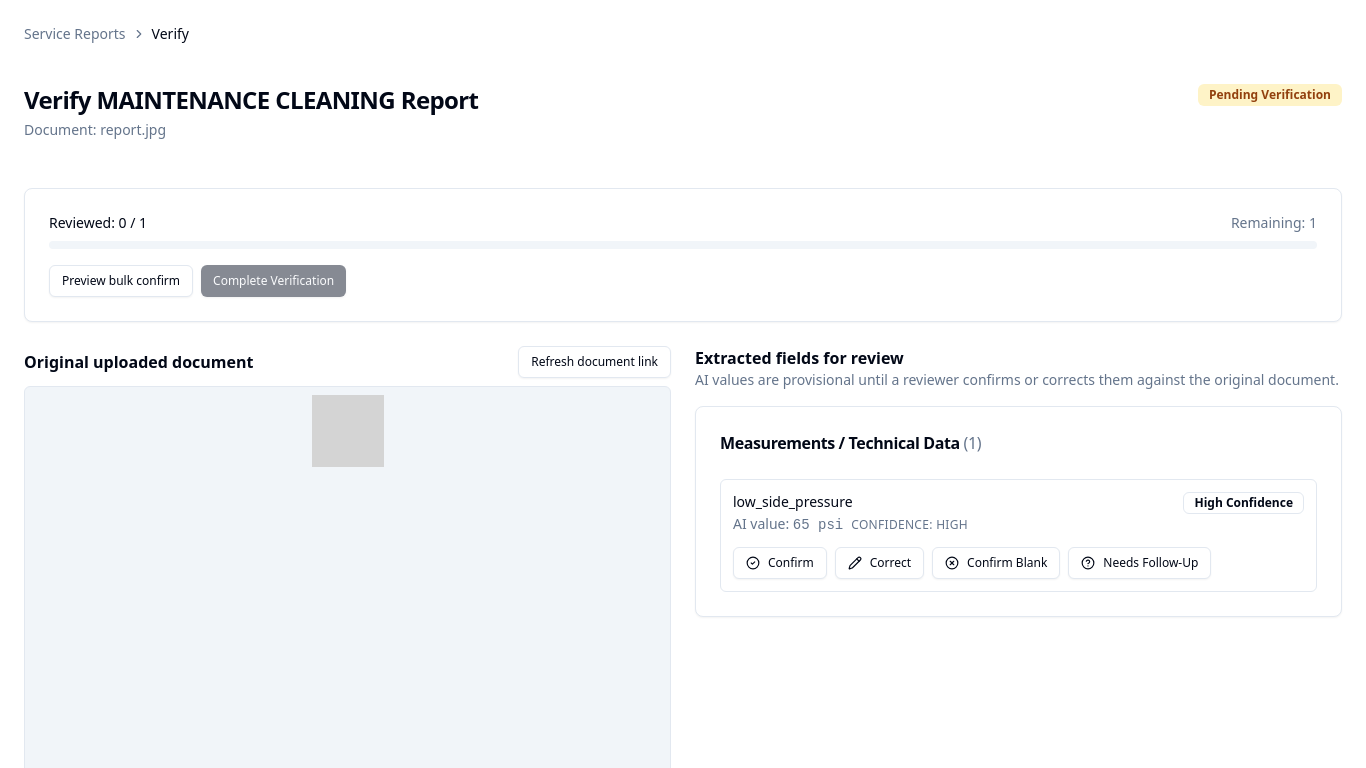
Test: ServiceReportVerifyPage › bulk-confirm preview shows the eligible count before the reviewer applies it
Expected: the text "low_side_pressure" is shown, [733,492,852,511]
Step 1. Click the button "Preview bulk confirm" → point(121, 281), box [49,265,193,297]
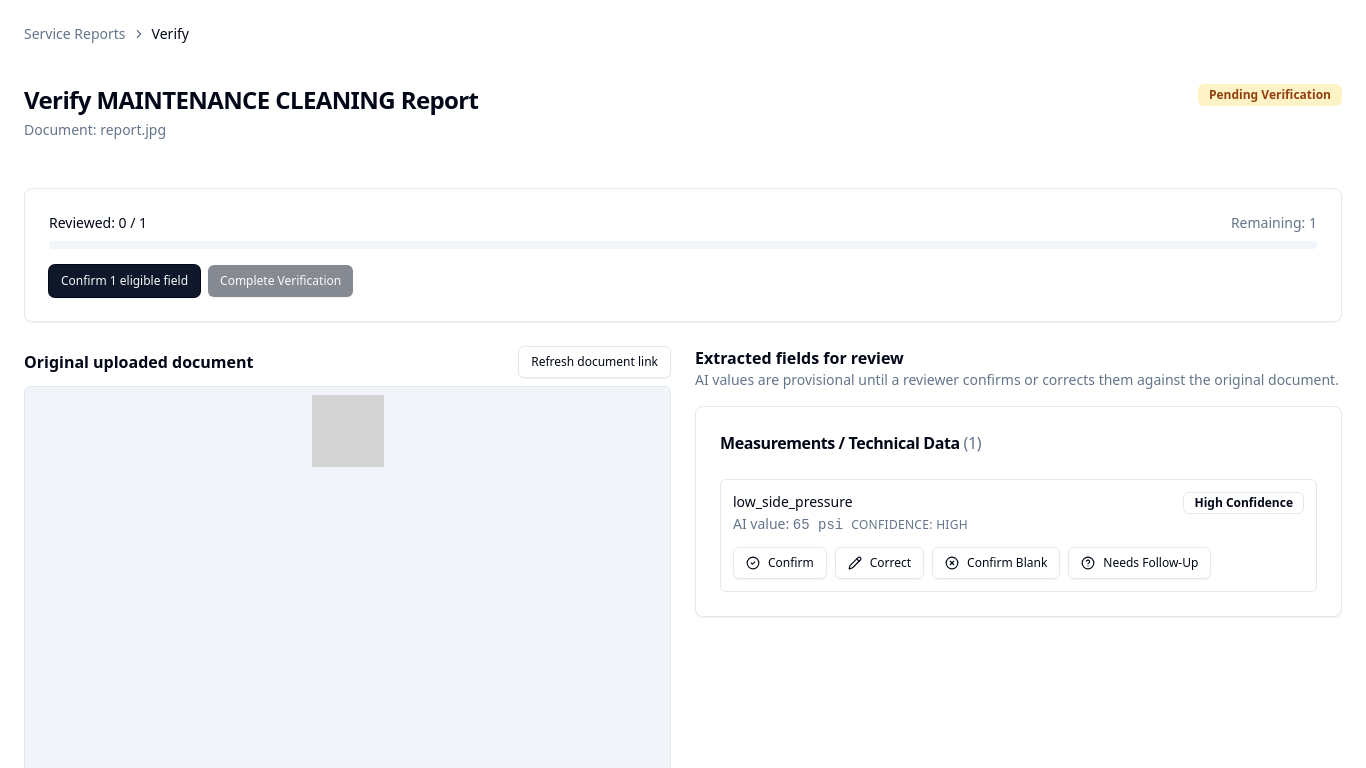
Expected: the button "Confirm 1 eligible field" is shown, [49,265,200,297]
